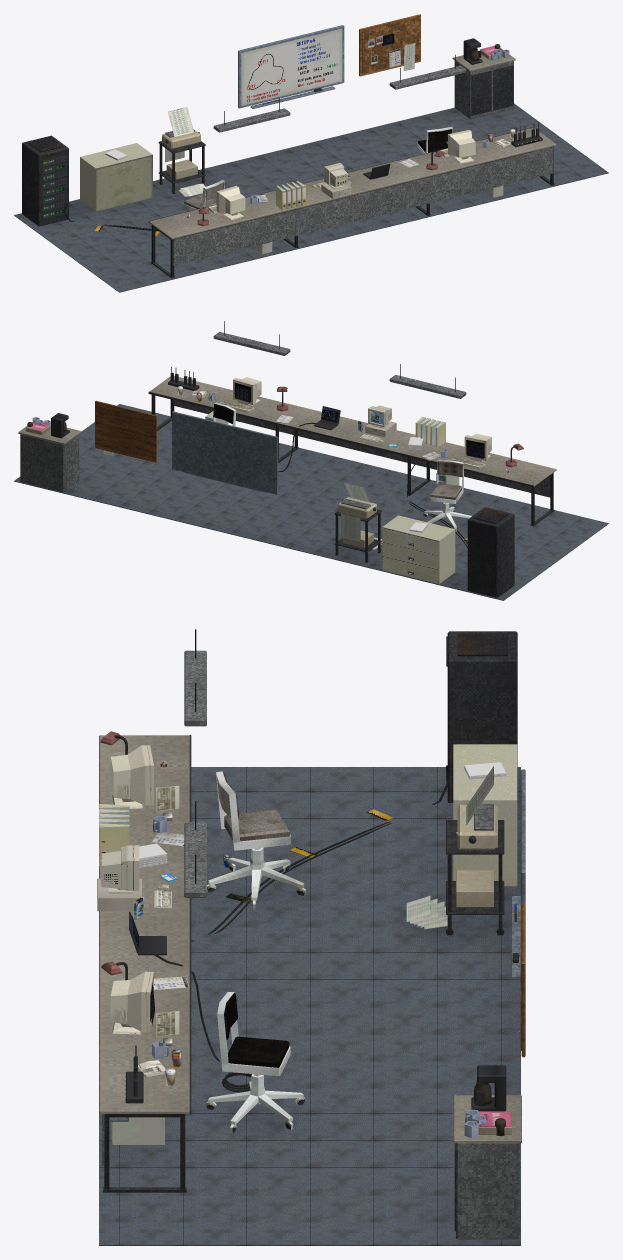
Rendered from station_data.glb.
The picture shows the model from 3 angles, top to bottom: view 1: azimuth 30°, elevation 25°; view 2: azimuth 150°, elevation 25°; view 3: azimuth 270°, elevation 25°; orthographic projection. The views are drawn at different scales.
Visible parts, largest first — view 1: Data_Carpet, Data_Modesty, Data_DeskTop, Data_Whiteboard, Data_Cab, Data_NetCab, Data_Cork, Data_NetFront, Data_CoffeeCab, Data_BoardFrame, Data_Win95, Data_CoffeeDoor_0 (+12 smaller); view 2: Data_Carpet, Data_BoardFrame, Data_DeskTop, Data_Cab, Data_NetCab, Data_CorkFrame, Data_CoffeeCab, Data_Modesty, Data_Chair_0, Data_DeskEdge, Data_Win95, Data_StripLight_1 (+7 smaller); view 3: Data_Carpet, Data_DeskTop, Data_NetCab, Data_CoffeeCab, Data_Cab, Data_Chair_1, Data_Chair_0, Data_Win95, CRT0, CRT1, Data_StripLight_0, Data_CoffeeTop (+9 smaller).
Part boxes in pixels (x1=…): Data_Carpet: x1=14, y1=103, x2=608, y2=292; Data_Modesty: x1=173, y1=147, x2=553, y2=265; Data_DeskTop: x1=149, y1=127, x2=556, y2=239; Data_Whiteboard: x1=241, y1=28, x2=342, y2=105; Data_Cab: x1=80, y1=143, x2=152, y2=211; Data_NetCab: x1=22, y1=135, x2=68, y2=226; Data_Cork: x1=362, y1=17, x2=419, y2=74; Data_NetFront: x1=41, y1=153, x2=66, y2=221; Data_CoffeeCab: x1=454, y1=61, x2=513, y2=119; Data_BoardFrame: x1=238, y1=25, x2=344, y2=108; Data_Win95: x1=311, y1=163, x2=352, y2=198; Data_CoffeeDoor_0: x1=471, y1=70, x2=491, y2=115; Data_Carpet: x1=14, y1=404, x2=608, y2=600; Data_BoardFrame: x1=172, y1=411, x2=278, y2=494; Data_DeskTop: x1=149, y1=376, x2=556, y2=486; Data_Cab: x1=382, y1=515, x2=455, y2=583; Data_NetCab: x1=467, y1=507, x2=514, y2=597; Data_CorkFrame: x1=95, y1=400, x2=156, y2=462; Data_CoffeeCab: x1=20, y1=434, x2=79, y2=492; Data_Modesty: x1=174, y1=400, x2=550, y2=497; Data_Chair_0: x1=423, y1=459, x2=471, y2=531; Data_DeskEdge: x1=148, y1=391, x2=533, y2=487; Data_Win95: x1=358, y1=405, x2=396, y2=442; Data_StripLight_1: x1=213, y1=332, x2=290, y2=355; Data_Carpet: x1=99, y1=767, x2=520, y2=1245; Data_DeskTop: x1=99, y1=735, x2=189, y2=1113; Data_NetCab: x1=447, y1=631, x2=517, y2=802; Data_CoffeeCab: x1=456, y1=1143, x2=519, y2=1239; Data_Cab: x1=453, y1=744, x2=517, y2=886; Data_Chair_1: x1=206, y1=992, x2=304, y2=1133; Data_Chair_0: x1=207, y1=771, x2=305, y2=909; Data_Win95: x1=97, y1=845, x2=171, y2=919; CRT0: x1=110, y1=745, x2=153, y2=808; CRT1: x1=110, y1=971, x2=153, y2=1034; Data_StripLight_0: x1=184, y1=650, x2=206, y2=726; Data_CoffeeTop: x1=453, y1=1095, x2=521, y2=1143.
Bounding box in the file's own units: 8.9 × 2.32 × 3.37.
Materials: 64 (51 with a texture image).
